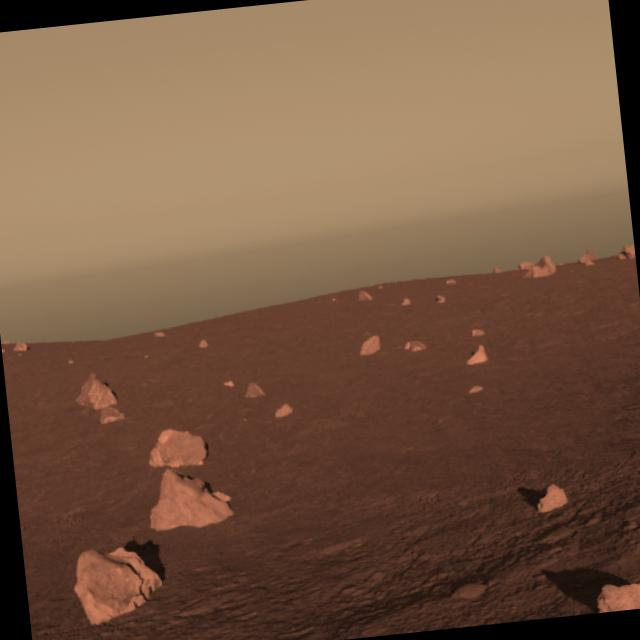rock: (63, 536, 168, 628), (143, 463, 239, 535), (143, 417, 210, 473), (593, 572, 640, 613)
